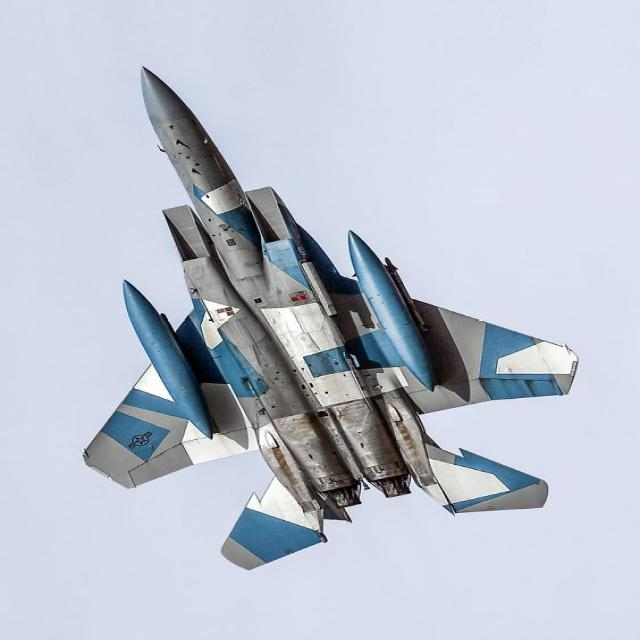MIL_Plane: (82, 65, 580, 571)
